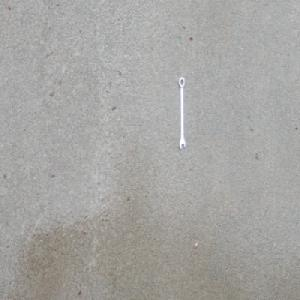Wrench: (177, 75, 186, 150)
